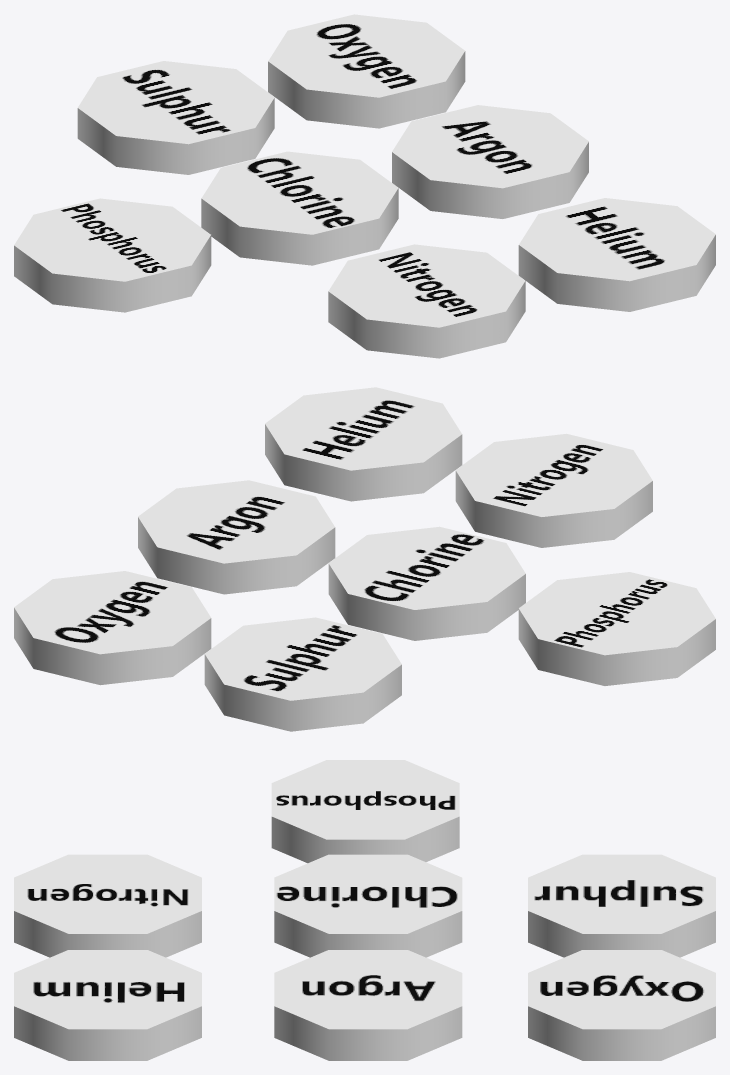
The model's file is level_5b.fbx.
3 renders of one model, top to bottom at view 1: azimuth 30°, elevation 25°; view 2: azimuth 150°, elevation 25°; view 3: azimuth 270°, elevation 25°, orthographic. The views are drawn at different scales.
Parts seen in each view (by area): view 1: oxygen, phosphorus, nitrogen, helium, sulphur, chlorine, argon; view 2: helium, argon, phosphorus, sulphur, nitrogen, oxygen, chlorine; view 3: argon, helium, oxygen, chlorine, nitrogen, sulphur, phosphorus.
Part boxes in pixels (x1,y1,x2,y2): oxygen: (268, 14, 465, 128); phosphorus: (14, 198, 211, 312); nitrogen: (328, 244, 525, 358); helium: (518, 198, 715, 311); sulphur: (77, 61, 274, 174); chlorine: (201, 151, 398, 265); argon: (392, 105, 588, 218); helium: (265, 387, 462, 501); argon: (138, 480, 335, 594); phosphorus: (518, 572, 715, 685); sulphur: (204, 617, 401, 731); nitrogen: (455, 433, 652, 547); oxygen: (14, 571, 211, 685); chlorine: (328, 526, 525, 640); argon: (274, 950, 462, 1060); helium: (14, 950, 201, 1060); oxygen: (528, 950, 715, 1060); chlorine: (274, 854, 462, 957); nitrogen: (14, 854, 201, 957); sulphur: (528, 854, 715, 957); phosphorus: (271, 760, 459, 863).
Size of the model in its own units: 147 by 8.05 by 162.
Materials: 1 (1 with a texture image).
